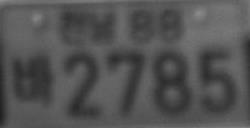2: (64, 51, 102, 118)
5: (199, 51, 237, 113)
7: (107, 51, 146, 115)
8: (153, 51, 192, 114), (128, 8, 155, 44), (159, 8, 184, 42)
바: (11, 55, 54, 107)
전남_H: (61, 9, 115, 46)
